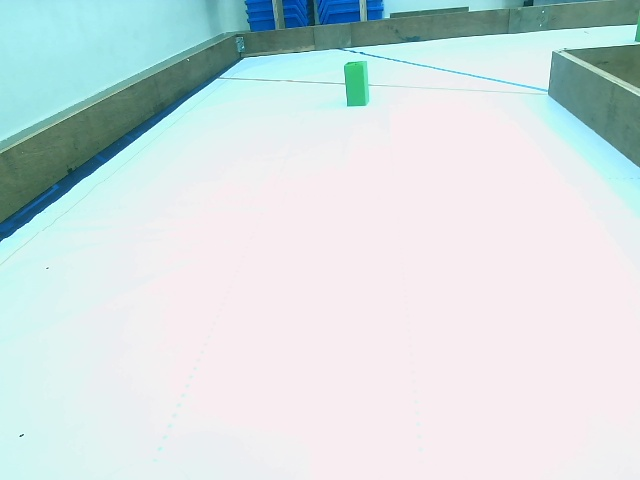green: (345, 63, 372, 108)
